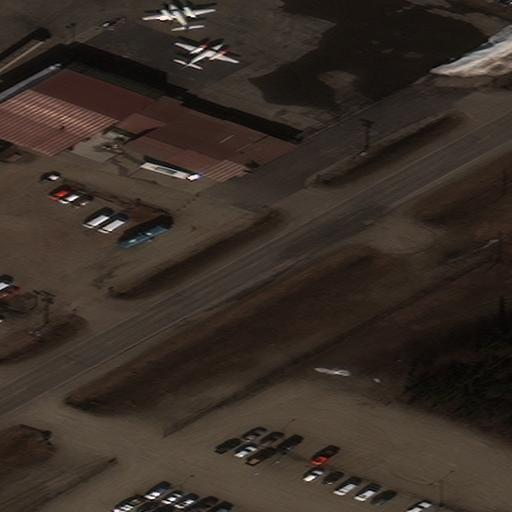Small Civil Transport: (140, 3, 214, 30), (175, 41, 238, 69)
